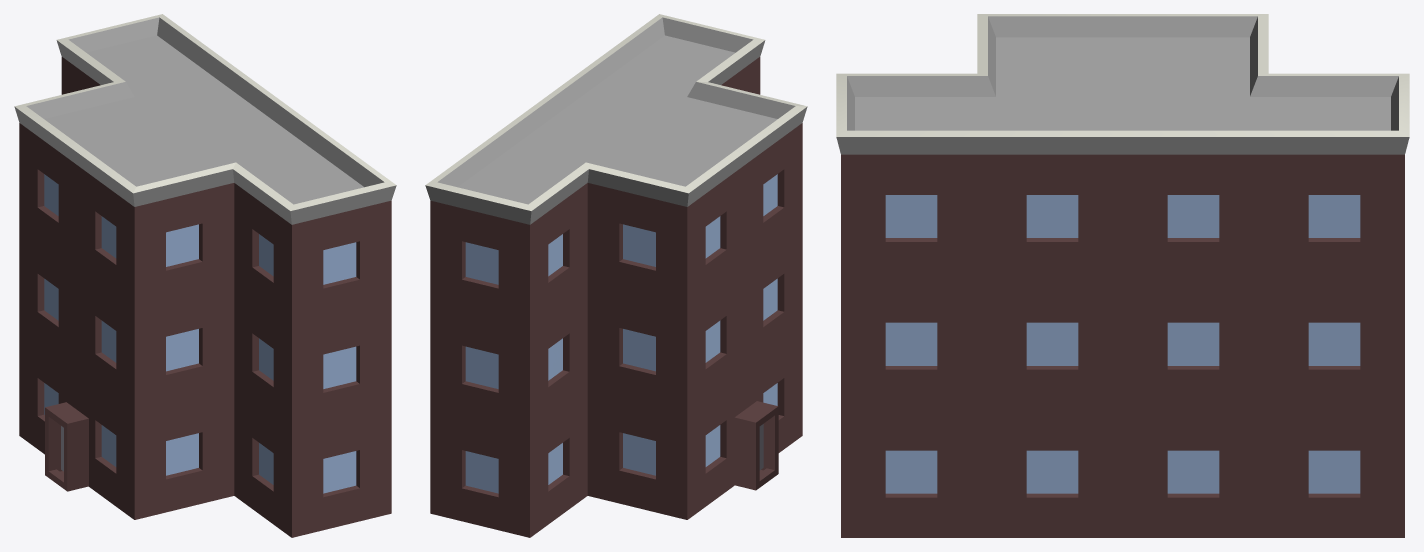
File: Building1.fbx
3 renders of one model, left to right at view 1: azimuth 30°, elevation 25°; view 2: azimuth 150°, elevation 25°; view 3: azimuth 270°, elevation 25°, orthographic. The views are drawn at different scales.
Parts seen in each view (by area): view 1: building1:Mesh1; view 2: building1:Mesh1; view 3: building1:Mesh1.
Part boxes in pixels (x1,y1,x2,y2): building1:Mesh1: [14, 14, 396, 537]; building1:Mesh1: [425, 14, 807, 537]; building1:Mesh1: [836, 14, 1409, 537].
Bounding box in the file's own units: 22.48 × 31.68 × 40.65.
